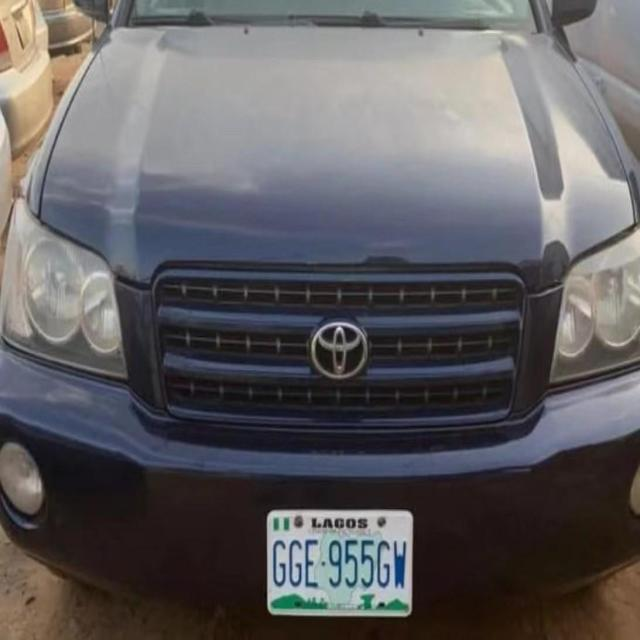Nigerian License Plate - vdataset benjamin-daria: (265, 508, 412, 619)
